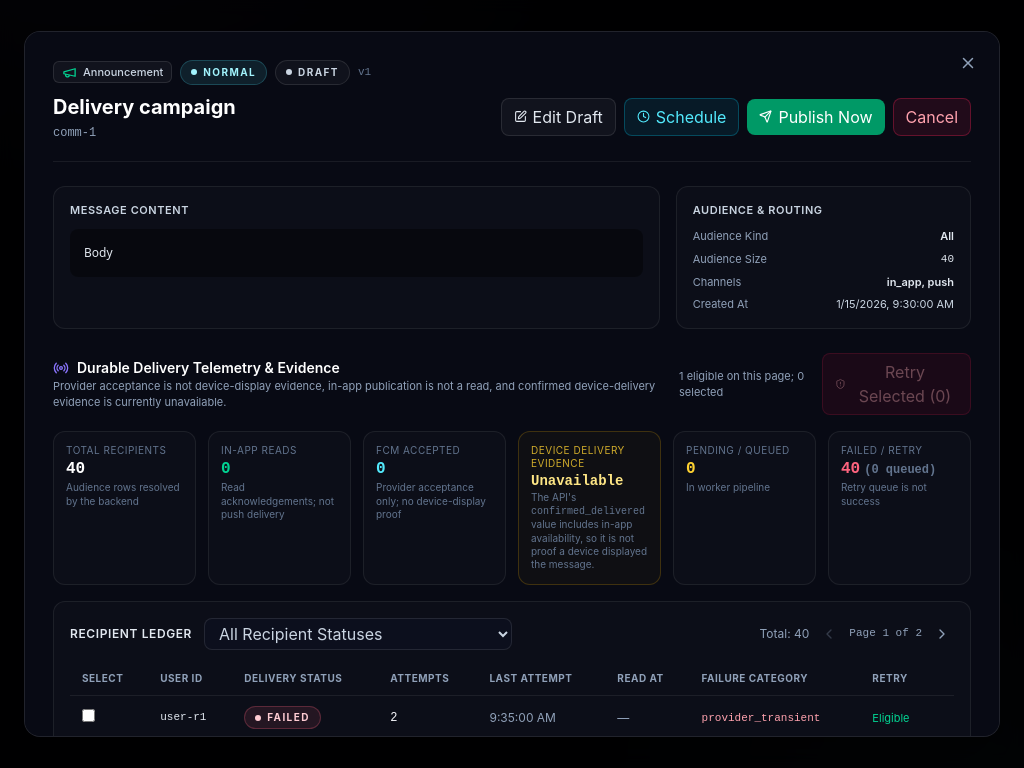
Test: publication lifecycle › does not claim publication success when the backend does not accept it
Click the button "Publish Now" at (816, 117), box [747,99,884,135]
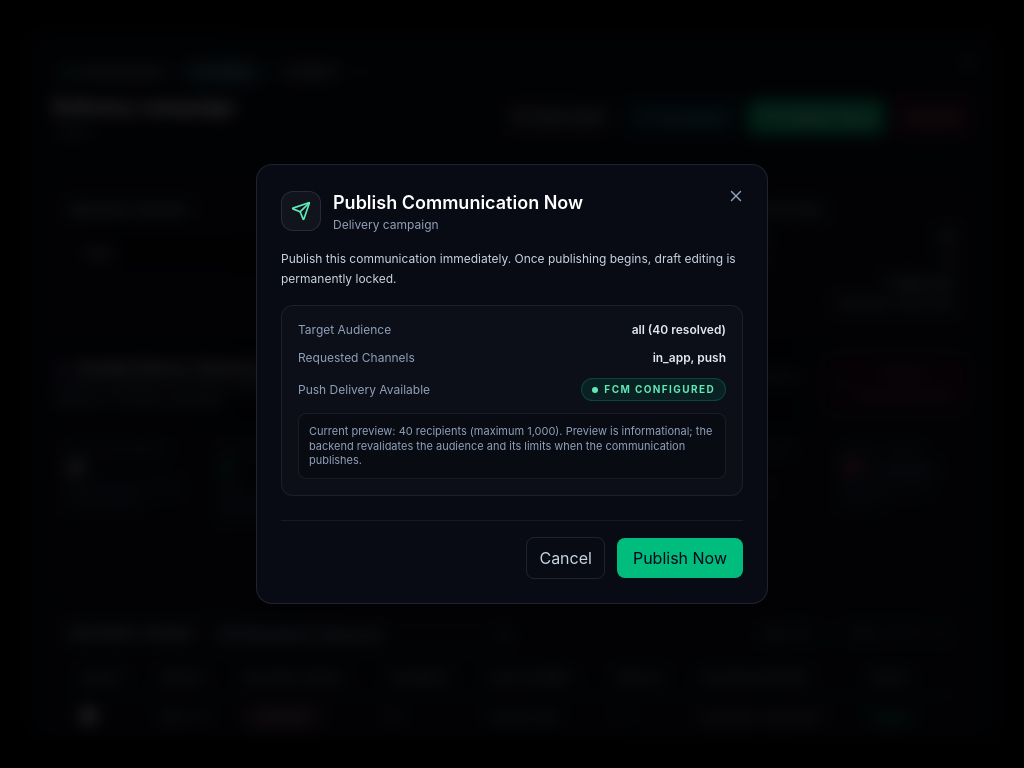
Result: the button "Publish Now" is shown
Result: the button "Publish Now" is enabled
Click the button "Publish Now" at (680, 558), box [617,538,743,578]
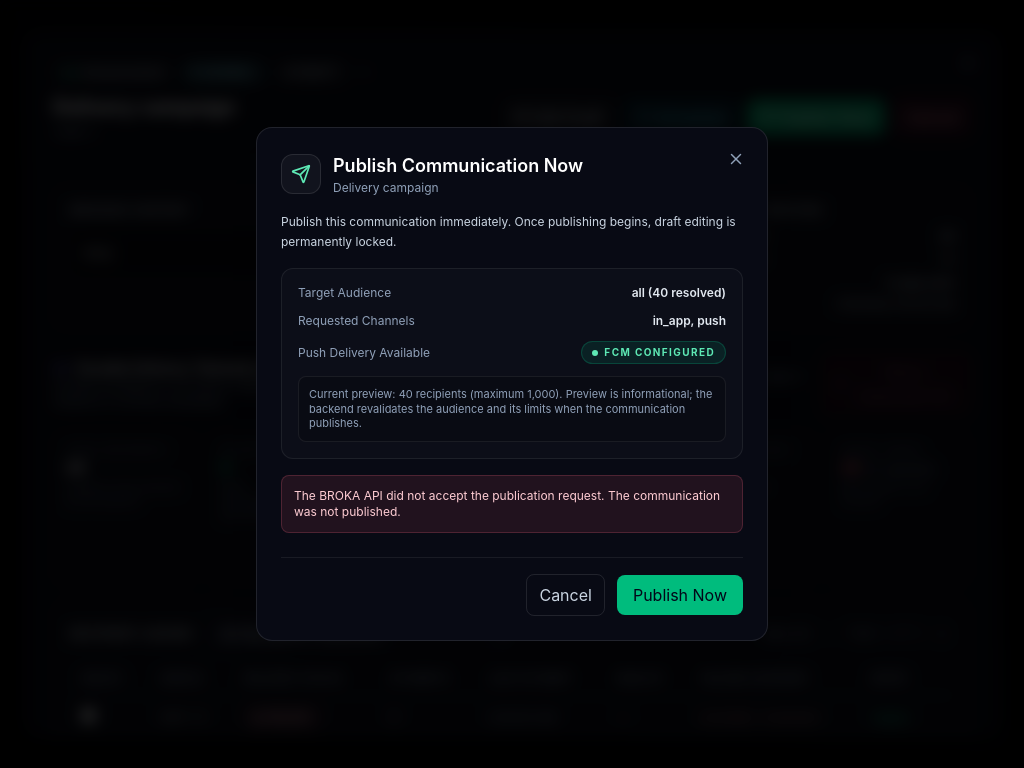
Result: the text "did not accept the publication request" is shown at [294,488,720,519]
